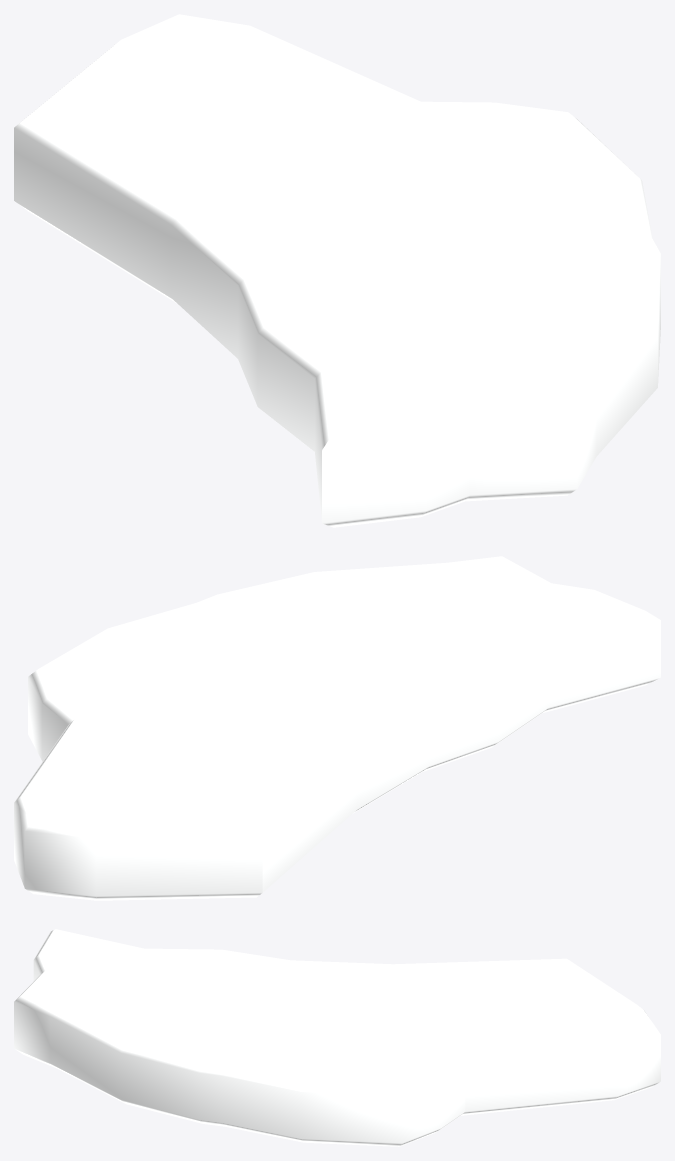
Rendered from ice_floe_medium_005.glb.
3 views of the same model, one above another, from view 1: azimuth 30°, elevation 25°; view 2: azimuth 150°, elevation 25°; view 3: azimuth 270°, elevation 25° (orthographic). The views are drawn at different scales.
Visible parts, largest first — view 1: ice_floe_medium_005; view 2: ice_floe_medium_005; view 3: ice_floe_medium_005.
Boxes of the visible parts, x1,y1,x2,y2 form: ice_floe_medium_005: (14, 14, 660, 527); ice_floe_medium_005: (14, 556, 660, 900); ice_floe_medium_005: (14, 929, 660, 1146).
Bounding box in the file's own units: 5.21 × 0.8944 × 8.62.
1 material, 1 textured.
